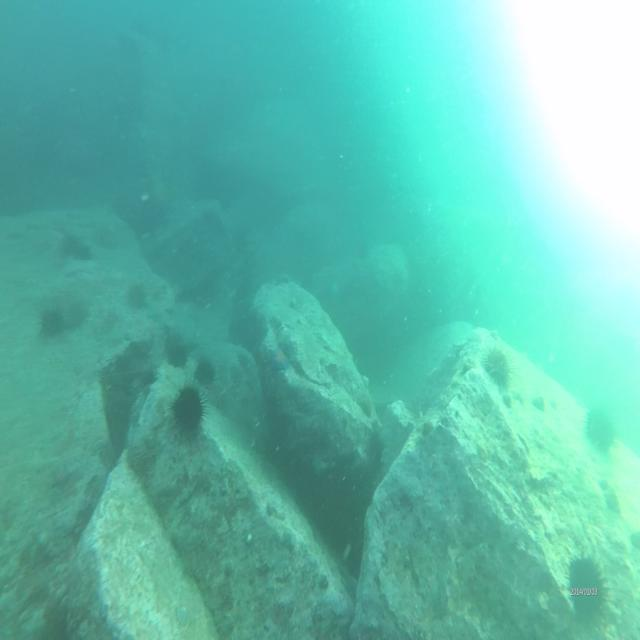echinus: (562, 545, 617, 630), (583, 392, 620, 461), (169, 380, 207, 444), (482, 338, 516, 394), (33, 304, 68, 346), (193, 356, 217, 390), (168, 338, 188, 369)
starfish: (266, 343, 290, 373)
